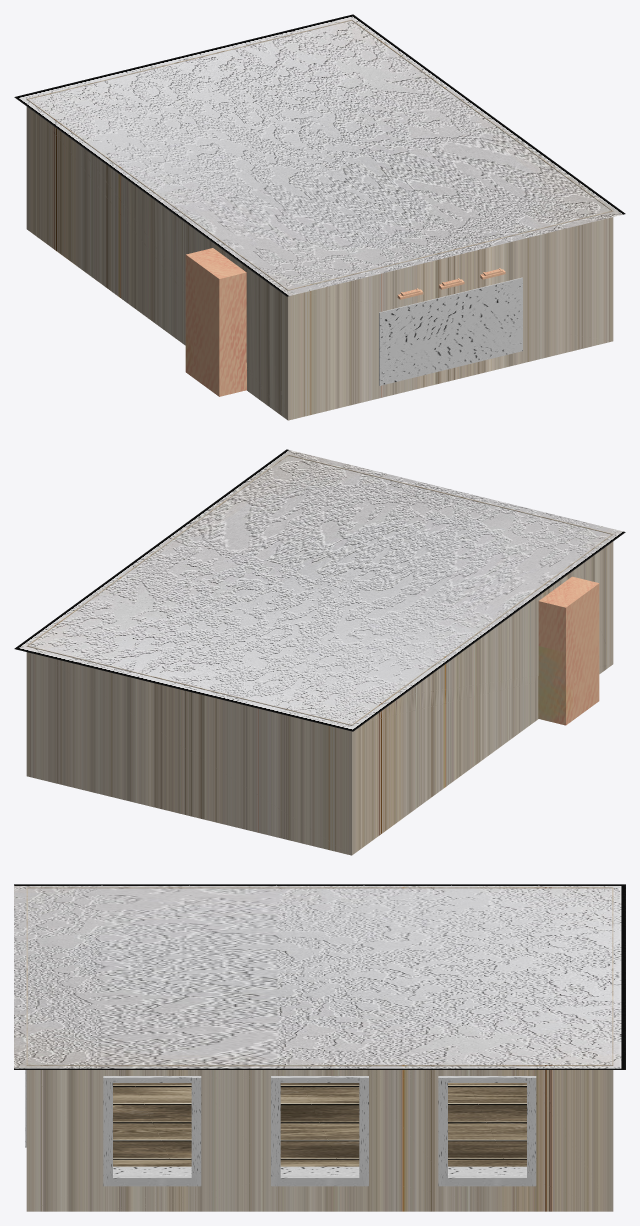
3 views of the same model, one above another, from view 1: azimuth 30°, elevation 25°; view 2: azimuth 150°, elevation 25°; view 3: azimuth 270°, elevation 25° (orthographic). The views are drawn at different scales.
Parts seen in each view (by area): view 1: потолок, Стены, Граница_доски, Cube.004; view 2: потолок, Стены, Cube.004; view 3: потолок, Стены, Пол, Cube.
Part boxes in pixels (bbox=[...]): потолок: bbox=[14, 14, 625, 296]; Стены: bbox=[26, 19, 613, 420]; Граница_доски: bbox=[379, 277, 522, 385]; Cube.004: bbox=[185, 248, 246, 396]; потолок: bbox=[14, 449, 625, 731]; Стены: bbox=[26, 454, 613, 855]; Cube.004: bbox=[538, 576, 599, 725]; потолок: bbox=[14, 884, 625, 1069]; Стены: bbox=[26, 887, 613, 1211]; Пол: bbox=[113, 1083, 526, 1166]; Cube: bbox=[103, 1076, 536, 1186].
Size of the model in its own units: 144 by 50 by 190.
